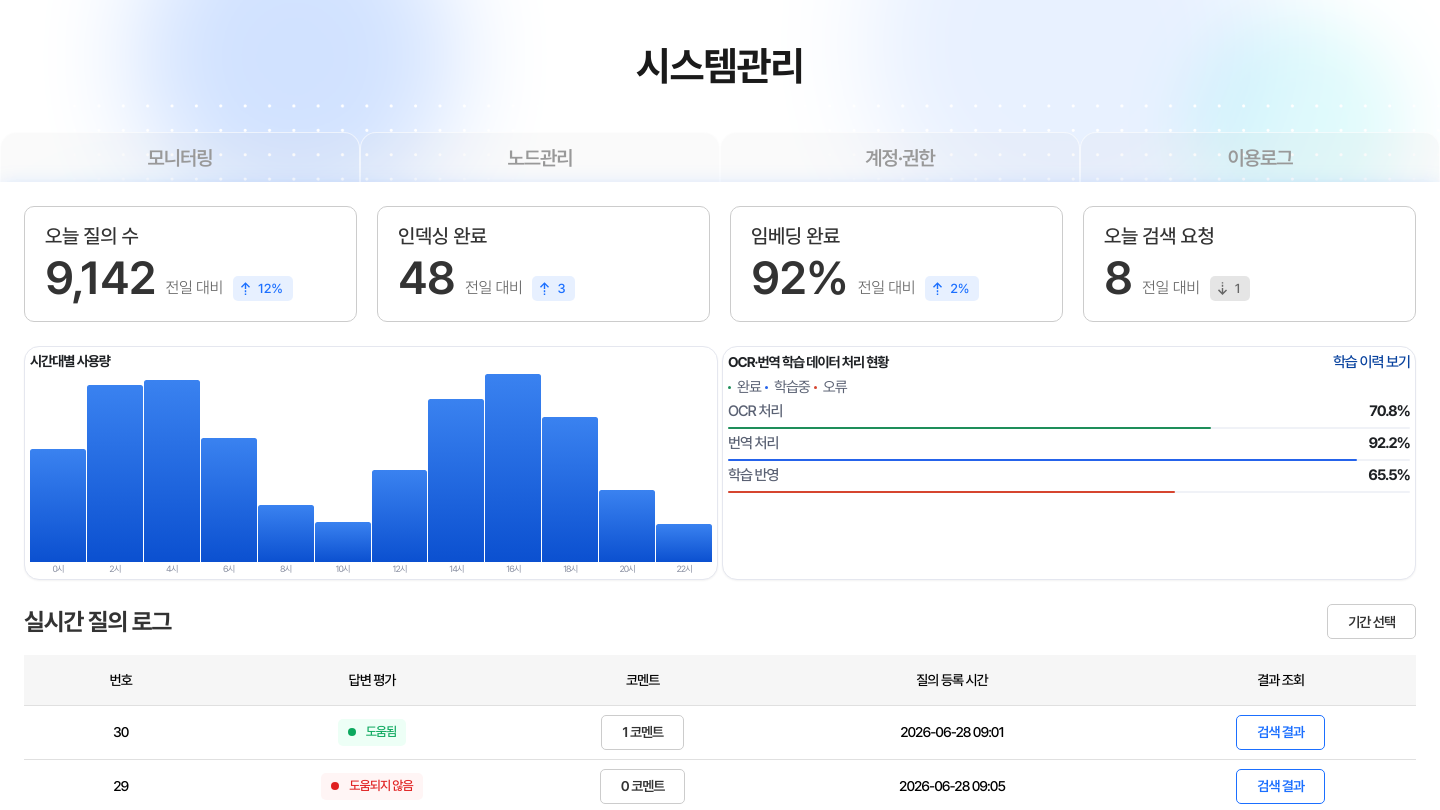
Scenario: 검색 결과 버튼은 준비중 — 모달 없이 토스트만 뜬다(D2b)
The width and height of the screenshot is (1440, 810).
Click the button with test id "view-log-q1" at (1281, 732), box [1236,715,1325,750]
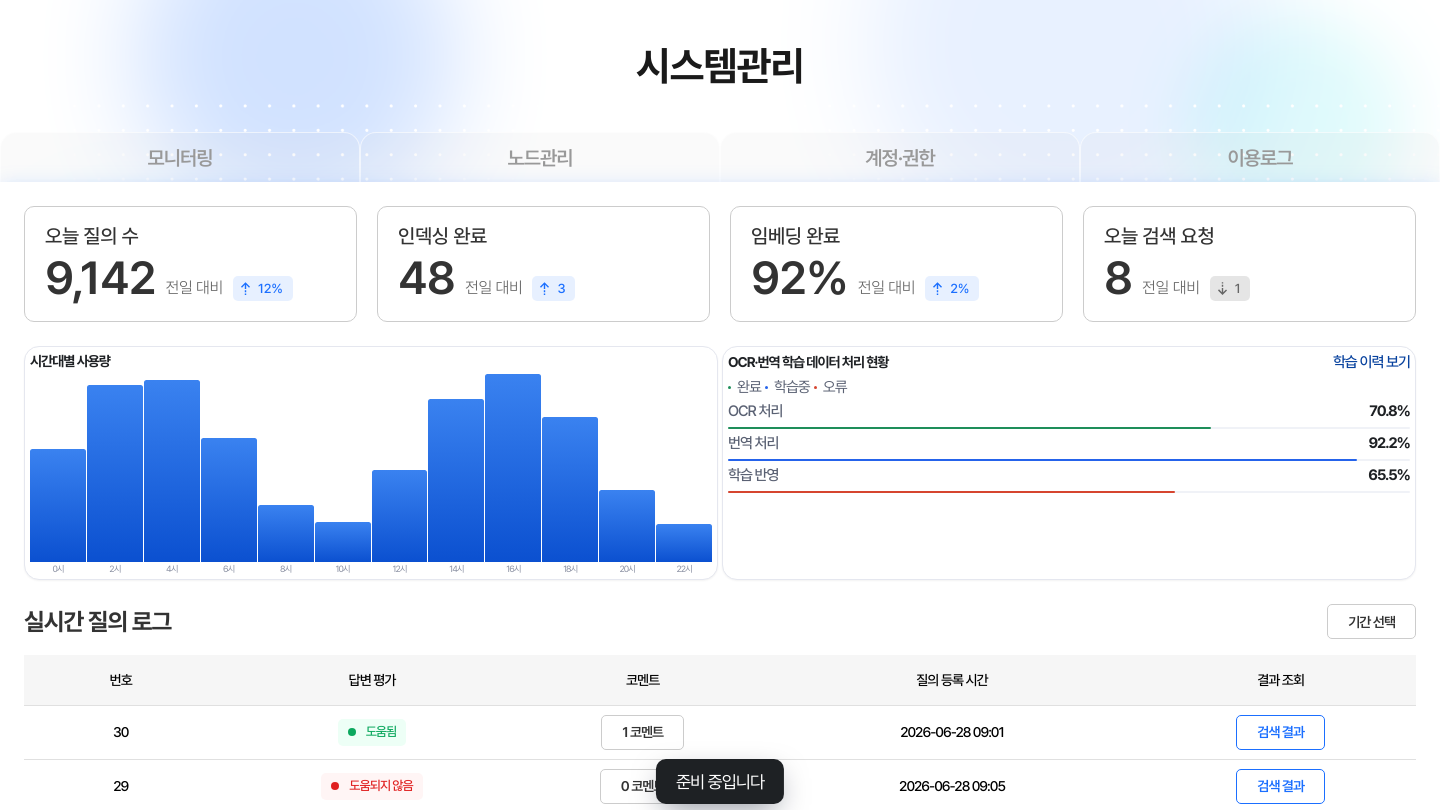
Result: the message reads "준비 중입니다" at [676,771,764,792]
